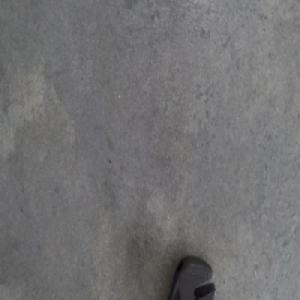AdjustableWrench: (168, 257, 216, 299)
